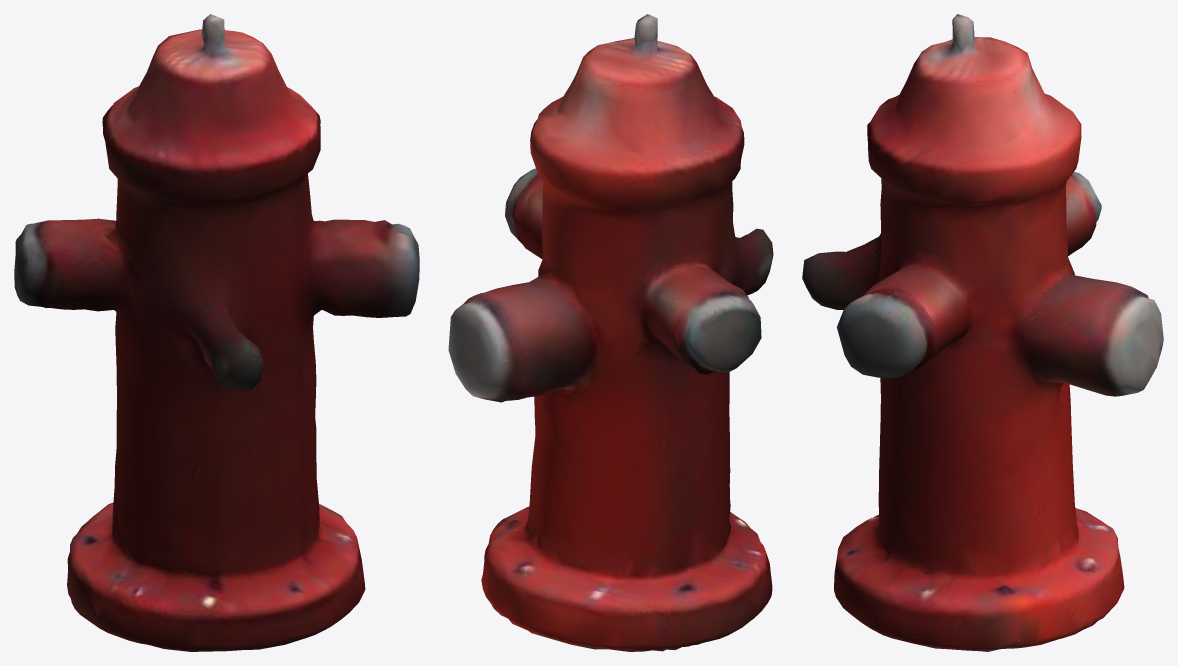
Rendered from gen_hydrant_photo.mobile-low.glb.
3 views of the same model, side by side, from view 1: azimuth 30°, elevation 25°; view 2: azimuth 150°, elevation 25°; view 3: azimuth 270°, elevation 25° (orthographic). The views are drawn at different scales.
Visible parts, largest first — view 1: gen_hydrant_photo; view 2: gen_hydrant_photo; view 3: gen_hydrant_photo.
Part boxes in pixels (x1,y1,x2,y2): gen_hydrant_photo: (14, 14, 419, 651); gen_hydrant_photo: (448, 14, 773, 651); gen_hydrant_photo: (802, 14, 1163, 651).
Bounding box in the file's own units: 0.4538 × 0.7979 × 0.453.
1 material, 1 textured.
